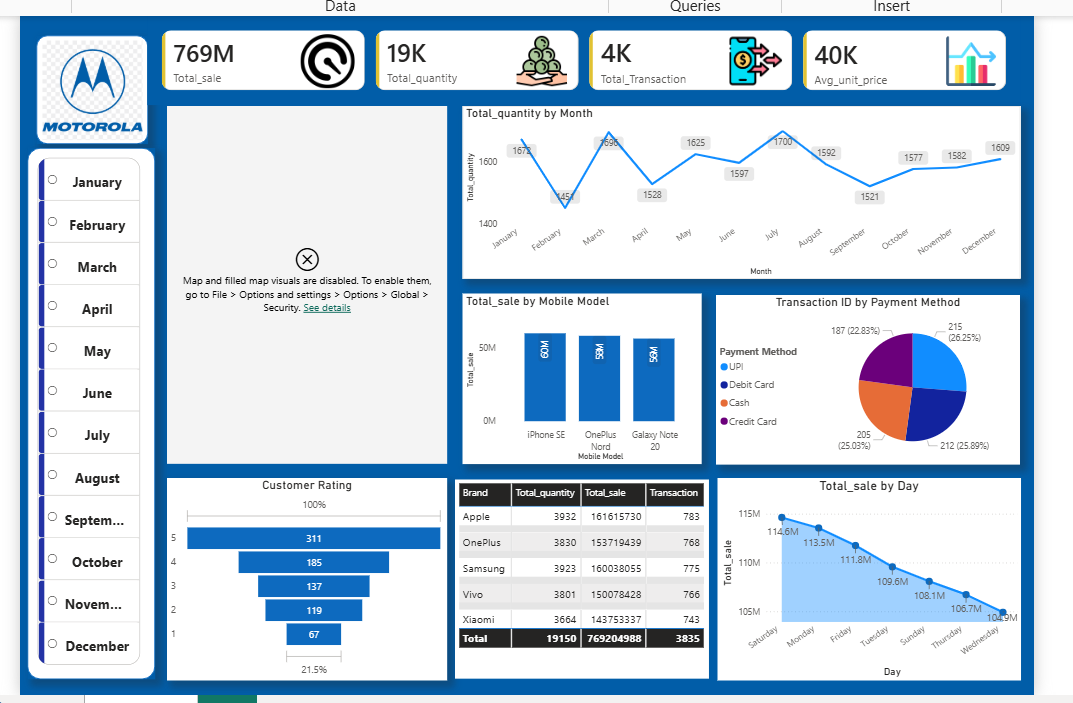

This screenshot's page, from the dashboard's own definition file:
{"tool":"powerbi","page":{"name":"Page 1","canvas":[1420,950],"ordinal":0},"visuals":[{"type":"shape","box":[22.3,26.3,155.9,151.9],"z":0},{"type":"image","box":[32.4,20.3,139.7,166.1],"z":1000},{"type":"shape","box":[11.3,185.2,178.5,743.2],"z":2000},{"type":"advancedSlicerVisual","fields":{"Values":["sales_data.Date.Variation.Date Hierarchy.Month"]},"box":[15,178.1,163.1,749],"z":3000},{"type":"cardVisual","fields":{"Data":["sales_data.Total_sale","sales_data.Total_quantity","sales_data.Total_Transaction","sales_data.Avg_unit_price"]},"box":[178.1,0,1221.2,124.5],"z":4000},{"type":"map","fields":{"Category":["sales_data.City"],"Size":["sales_data.Total_sale"]},"box":[205.2,126.7,392.2,500.9],"z":5000},{"type":"lineChart","fields":{"Category":["sales_data.Date.Variation.Date Hierarchy.Month"],"Y":["sales_data.Total_quantity"]},"box":[618.5,126.7,781.5,241.4],"z":6000},{"type":"columnChart","fields":{"Category":["sales_data.Mobile Model"],"Y":["sales_data.Total_sale"]},"box":[618.5,389.2,334.9,238.4],"z":7000},{"type":"pieChart","fields":{"Category":["sales_data.Payment Method"],"Y":["CountNonNull(sales_data.Transaction ID)"]},"box":[974.7,389.9,425.3,237],"z":8000},{"type":"funnel","title":"Customer Rating","fields":{"Category":["sales_data.Customer Ratings"],"Y":["CountNonNull(sales_data.Customer Ratings)"]},"box":[206,646.8,392.1,283.5],"z":9000},{"type":"areaChart","fields":{"Category":["sales_data.Day"],"Y":["sales_data.Total_sale"]},"box":[975.1,647.1,424.7,283.1],"z":10000},{"type":"tableEx","fields":{"Values":["sales_data.Brand","sales_data.Total_quantity","sales_data.Total_sale","sales_data.Total_Transaction"]},"box":[608.9,649.3,355,278.6],"z":11000}]}

Visuals, with their boxes in screenshot pixels (x1, y1, x2, y2):
shape: [left=27, top=30, right=141, bottom=141]
image: [left=35, top=26, right=137, bottom=147]
shape: [left=19, top=147, right=150, bottom=690]
advancedSlicerVisual - sales_data.Date.Variation.Date Hierarchy.Month: [left=22, top=141, right=141, bottom=689]
cardVisual - sales_data.Total_sale x sales_data.Total_quantity: [left=141, top=11, right=1034, bottom=102]
map - sales_data.City x sales_data.Total_sale: [left=161, top=104, right=448, bottom=470]
lineChart - sales_data.Date.Variation.Date Hierarchy.Month x sales_data.Total_quantity: [left=463, top=104, right=1035, bottom=280]
columnChart - sales_data.Mobile Model x sales_data.Total_sale: [left=463, top=296, right=708, bottom=470]
pieChart - sales_data.Payment Method x CountNonNull(sales_data.Transaction ID): [left=724, top=296, right=1035, bottom=469]
"Customer Rating" funnel: [left=162, top=484, right=448, bottom=691]
areaChart - sales_data.Day x sales_data.Total_sale: [left=724, top=484, right=1034, bottom=691]
tableEx - sales_data.Brand x sales_data.Total_quantity: [left=456, top=486, right=716, bottom=689]
